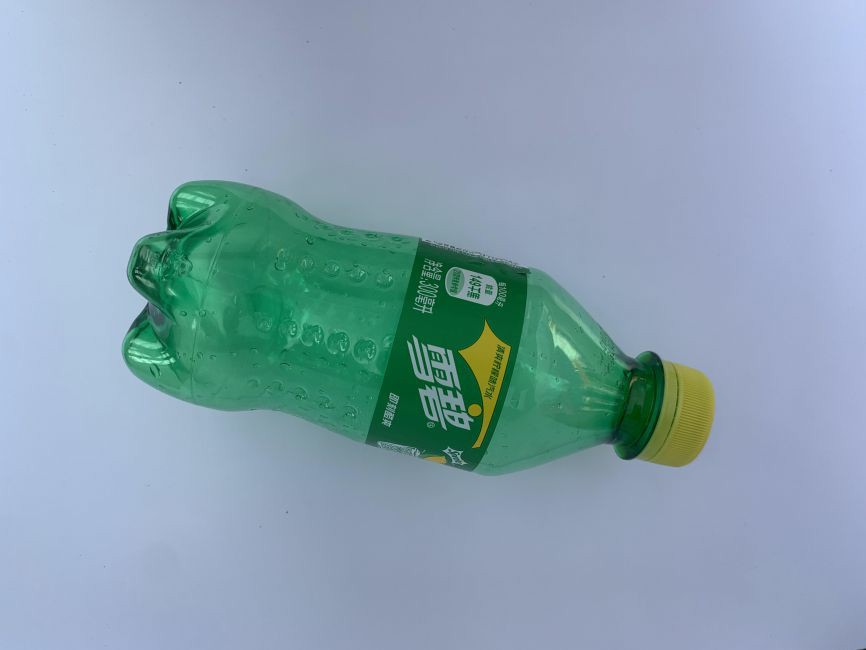bottle: (117, 175, 723, 484)
